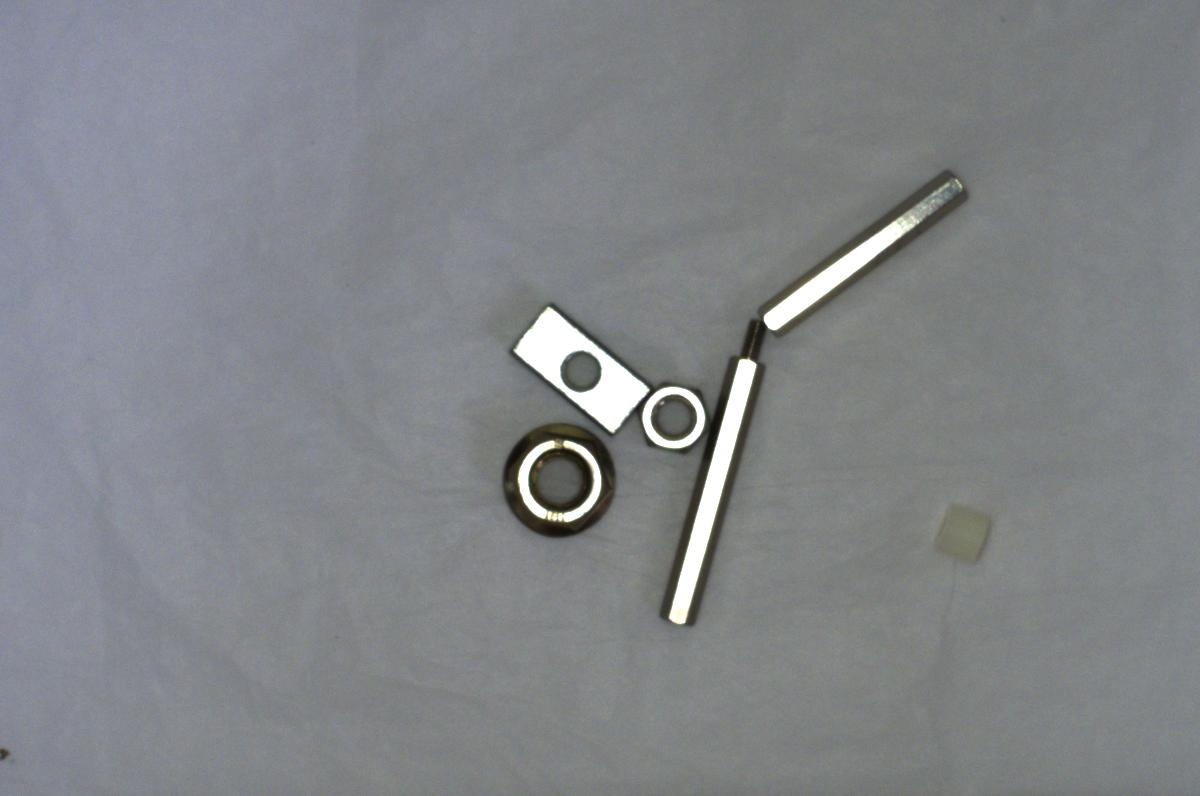Flange nut: (491, 415, 617, 543)
Hexagon nut: (631, 369, 713, 454)
Hexagonal steel column: (645, 318, 780, 629)
Plastic cushion pillar: (925, 499, 1000, 566)
Rectangular nut: (507, 307, 658, 439)
Spring washer: (746, 158, 958, 339)
